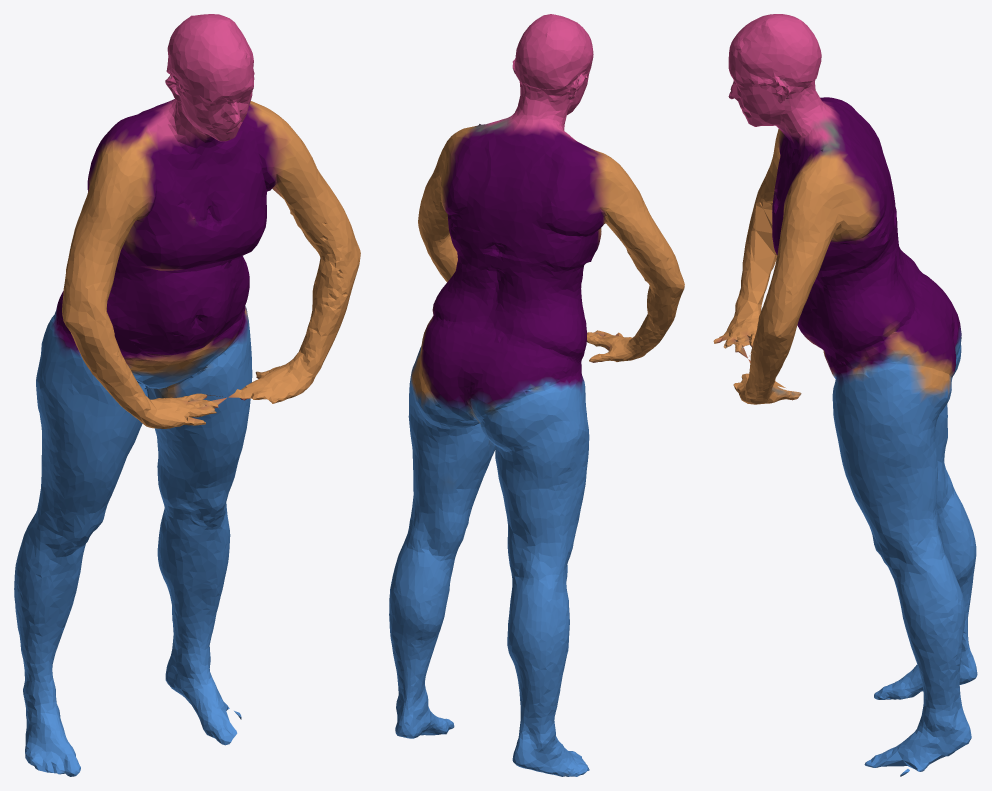
The picture shows the model from 3 angles, left to right: view 1: azimuth 30°, elevation 25°; view 2: azimuth 150°, elevation 25°; view 3: azimuth 270°, elevation 25°; orthographic projection. The views are drawn at different scales.
Visible parts, largest first — view 1: geometry_0.004; view 2: geometry_0.004; view 3: geometry_0.004.
Boxes of the visible parts, left/top/right/bottom form: geometry_0.004: left=14, top=14, right=360, bottom=776; geometry_0.004: left=389, top=14, right=684, bottom=776; geometry_0.004: left=713, top=14, right=977, bottom=776.
Size of the model in its own units: 0.7268 by 1.82 by 0.6062.
